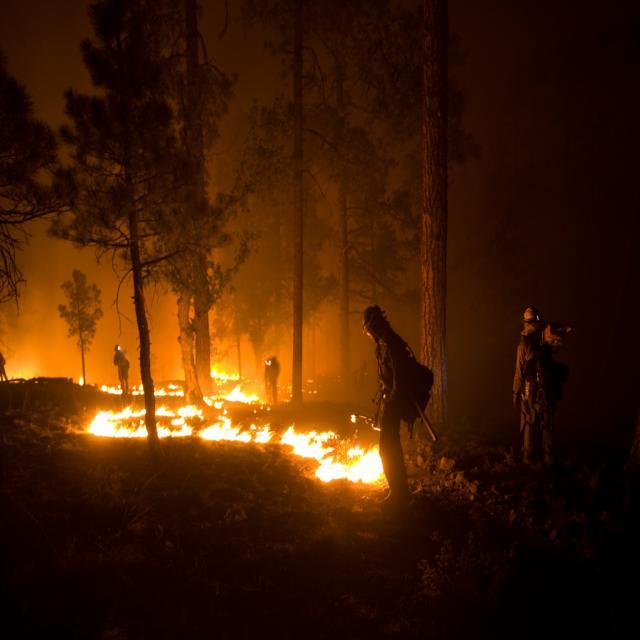Fire: (191, 416, 275, 444), (85, 400, 139, 433), (322, 453, 376, 477), (285, 423, 326, 450)
